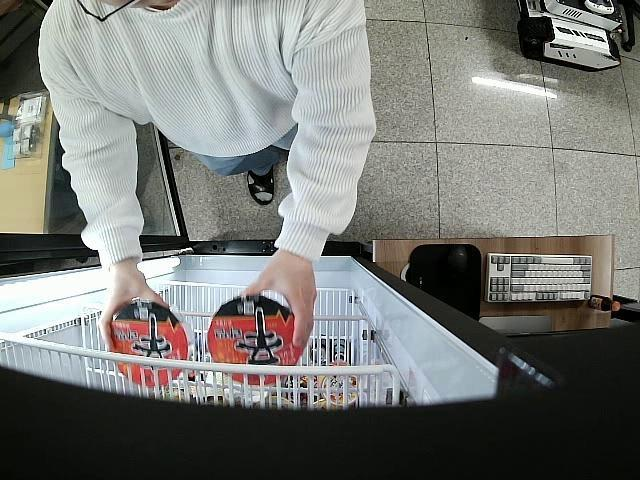01_ShinRamen_L: (210, 296, 302, 386), (110, 304, 192, 386)
